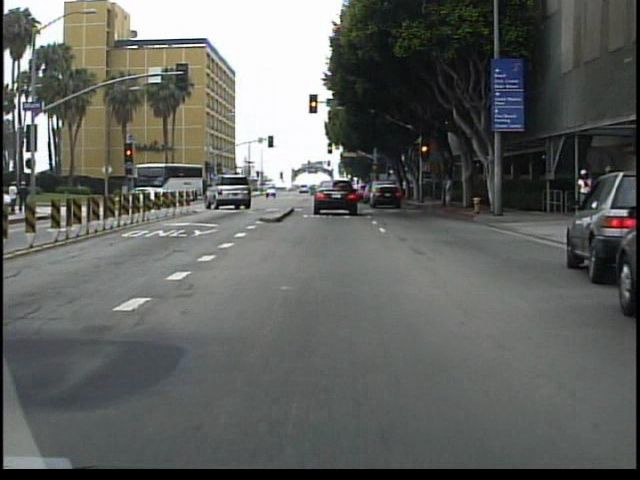person: (439, 168, 456, 210), (21, 177, 32, 214), (11, 177, 21, 212)
